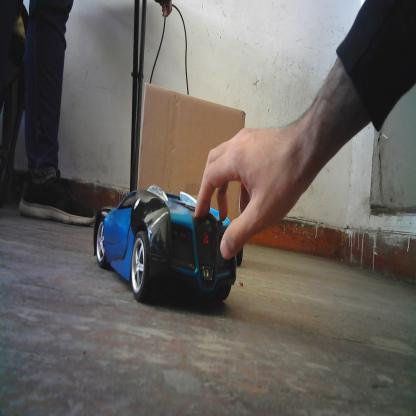LeadTruck: (139, 80, 245, 250)
